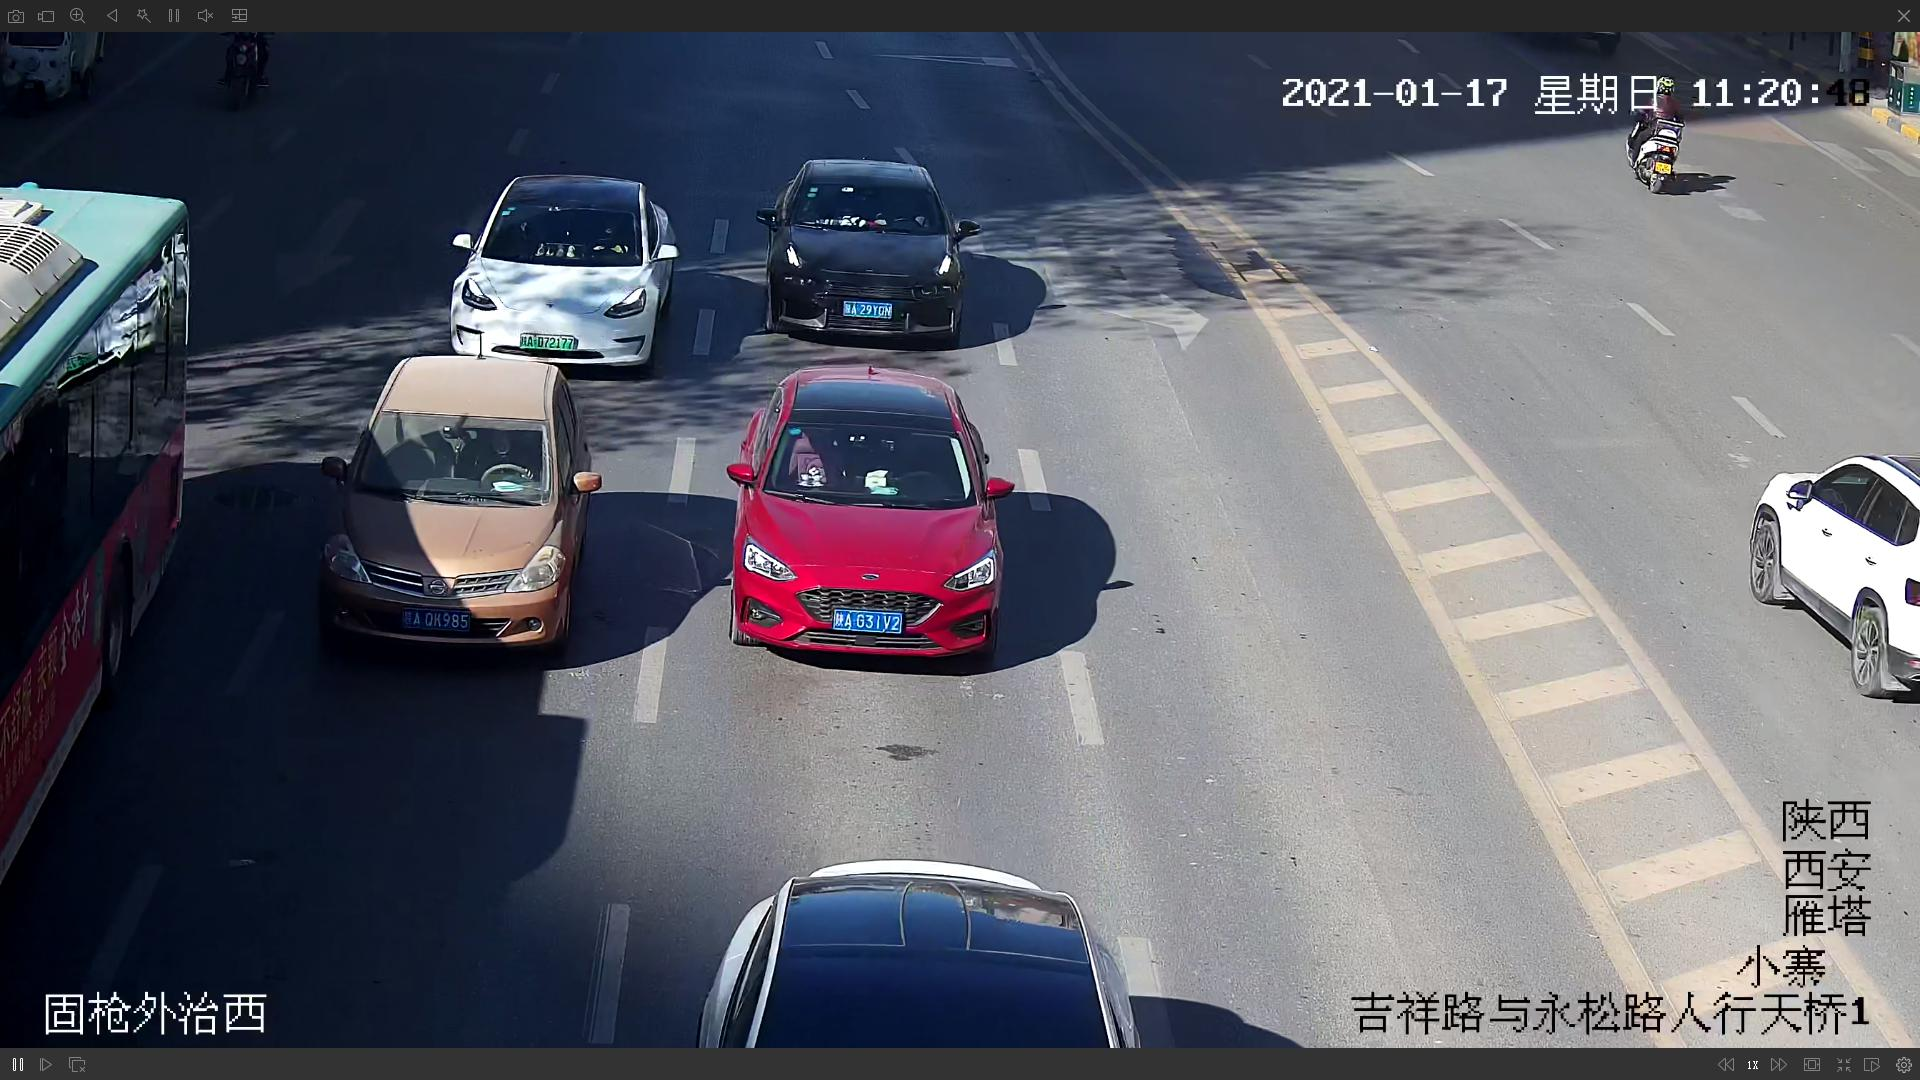black: (762, 152, 963, 352)
brown: (305, 349, 591, 659)
red: (721, 364, 1011, 676)
white: (444, 169, 674, 373)
